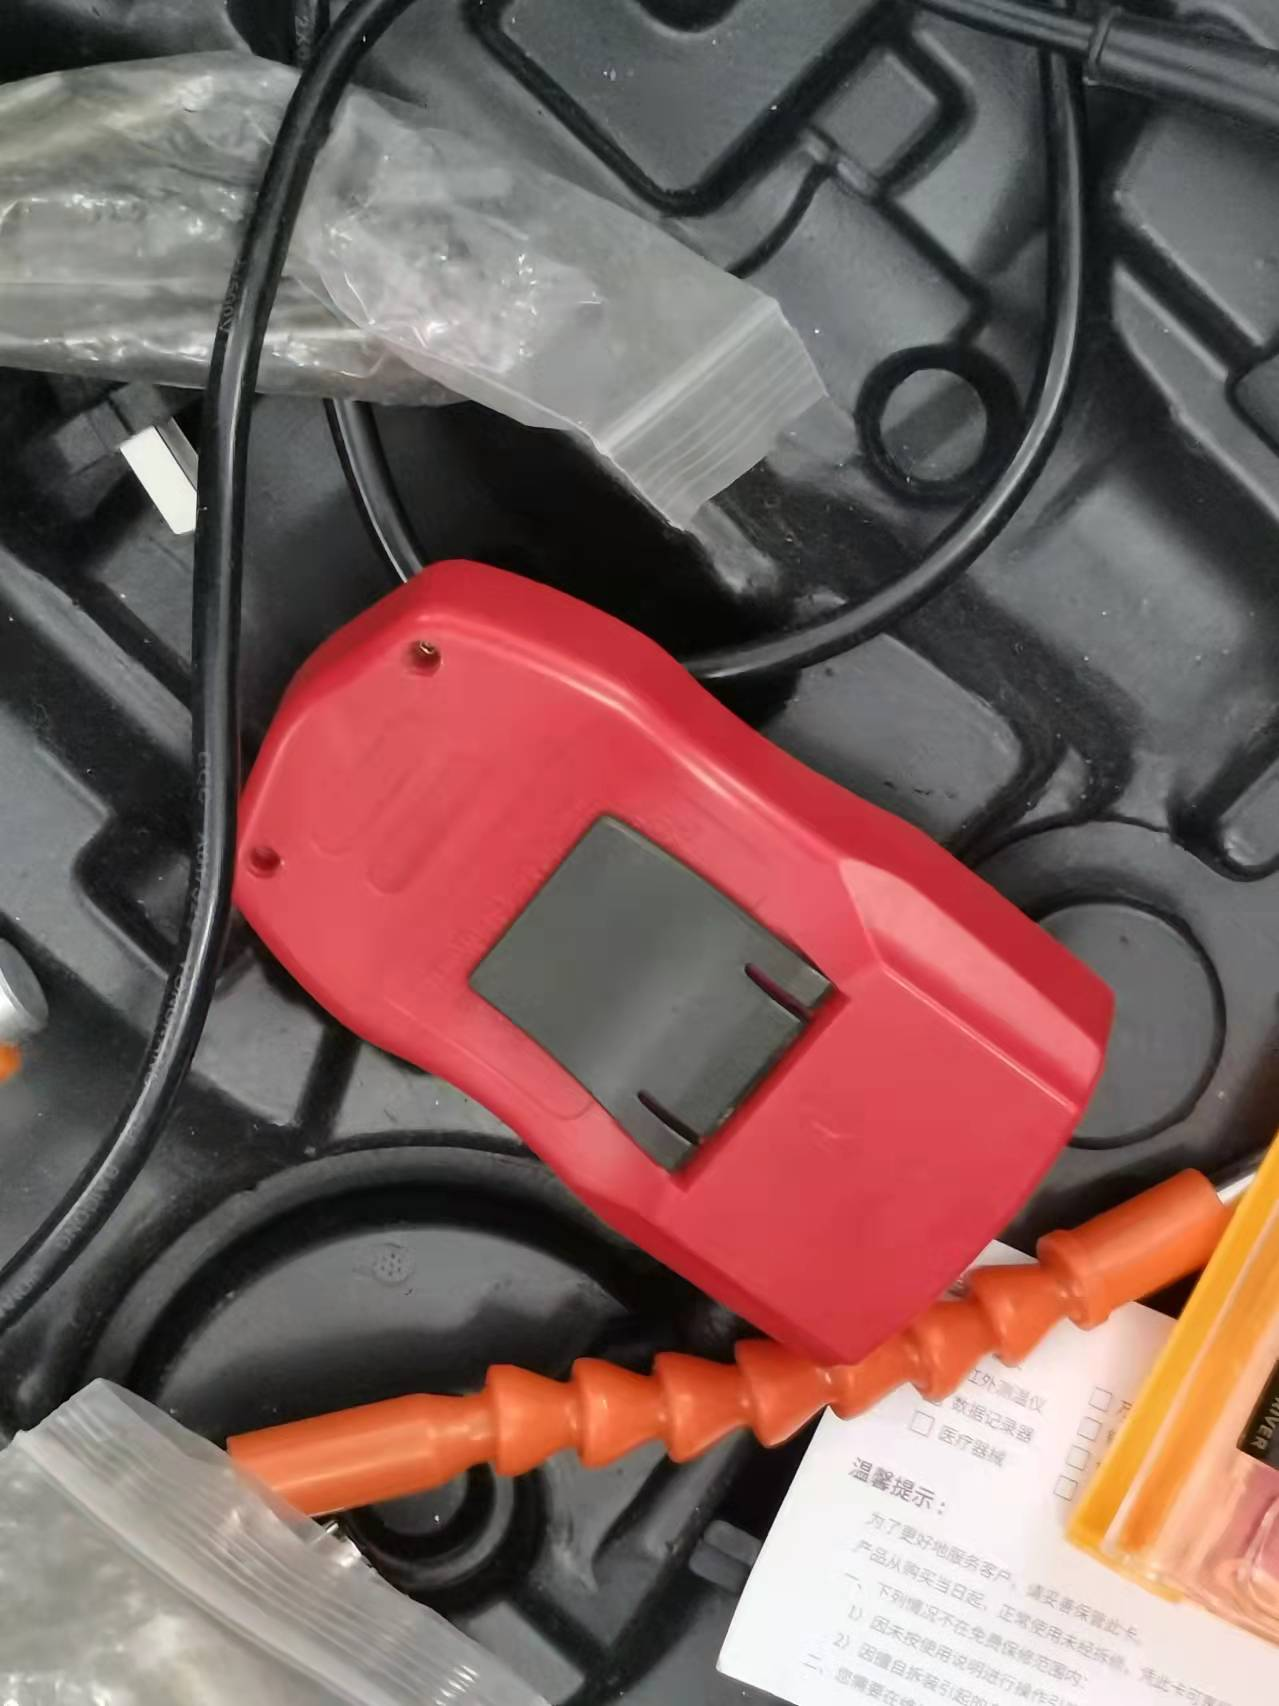Multimeter: (220, 549, 1119, 1363)
Screw holes: (243, 838, 289, 887), (400, 647, 443, 684)
